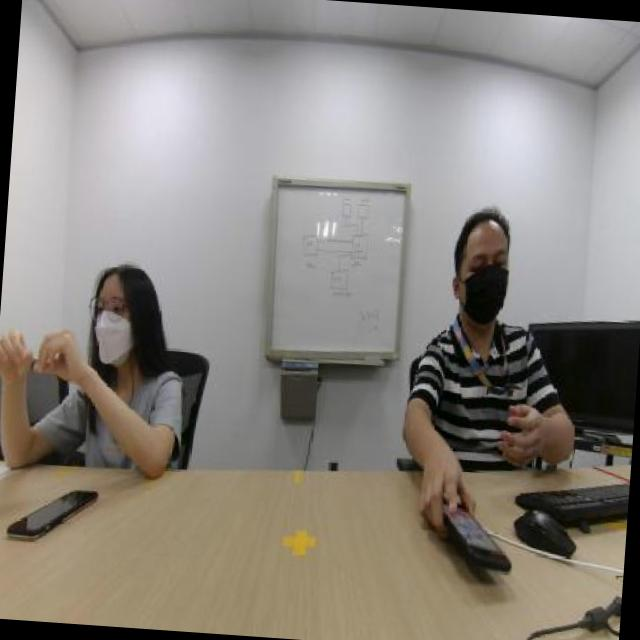Person: (0, 205, 200, 464), (397, 196, 576, 458)
